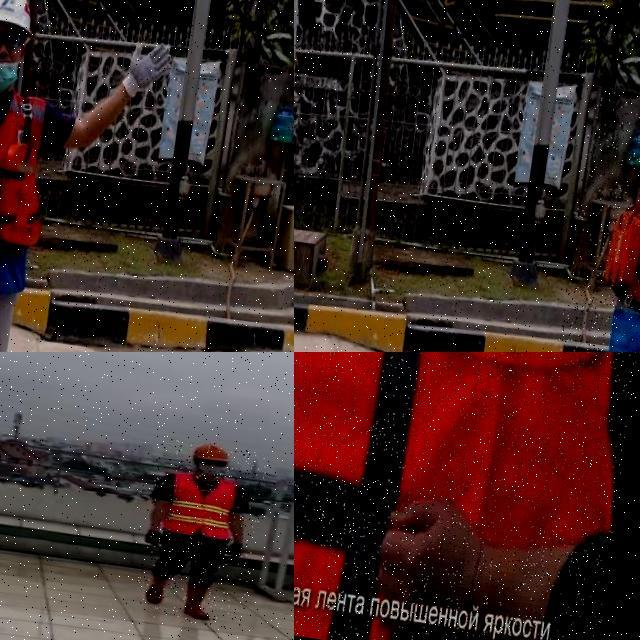boots: (182, 581, 218, 622), (141, 572, 168, 605)
helmet: (0, 0, 40, 41), (189, 439, 233, 464)
vest: (294, 352, 640, 640), (0, 80, 59, 305), (586, 174, 640, 352), (162, 472, 242, 540)
